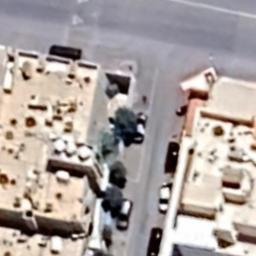SUV: (116, 198, 134, 230), (157, 184, 171, 212)
sedan: (145, 225, 163, 256), (164, 140, 180, 174), (133, 112, 148, 143)
unknown: (48, 44, 82, 62)
